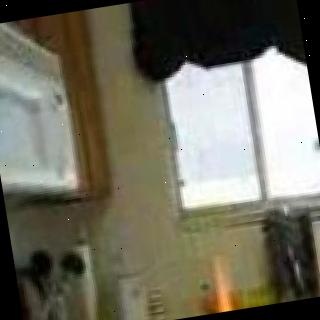fire: (137, 271, 279, 320)
